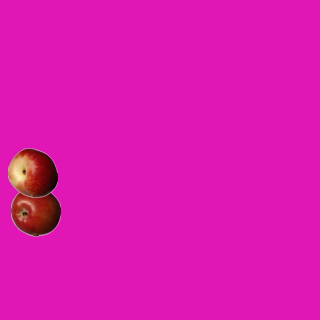Apple Braeburn: (10, 186, 60, 236)
Nectarine: (7, 147, 57, 197)
